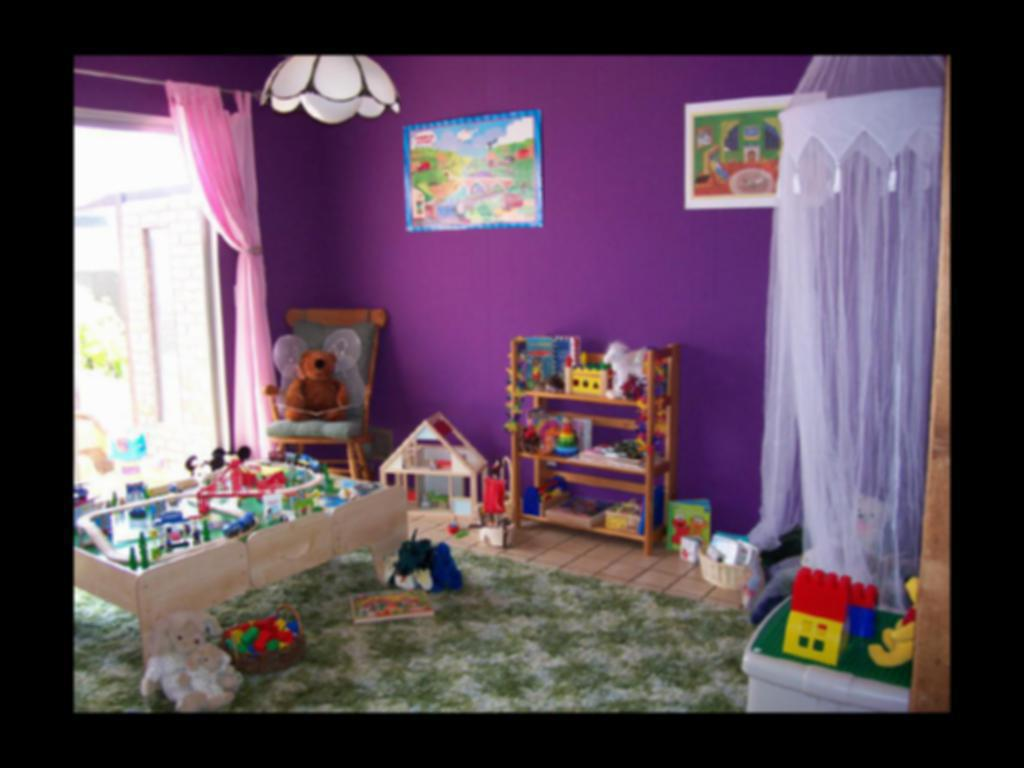Otro Obstaculo: (142, 609, 250, 706), (233, 612, 307, 681), (391, 538, 460, 601)
